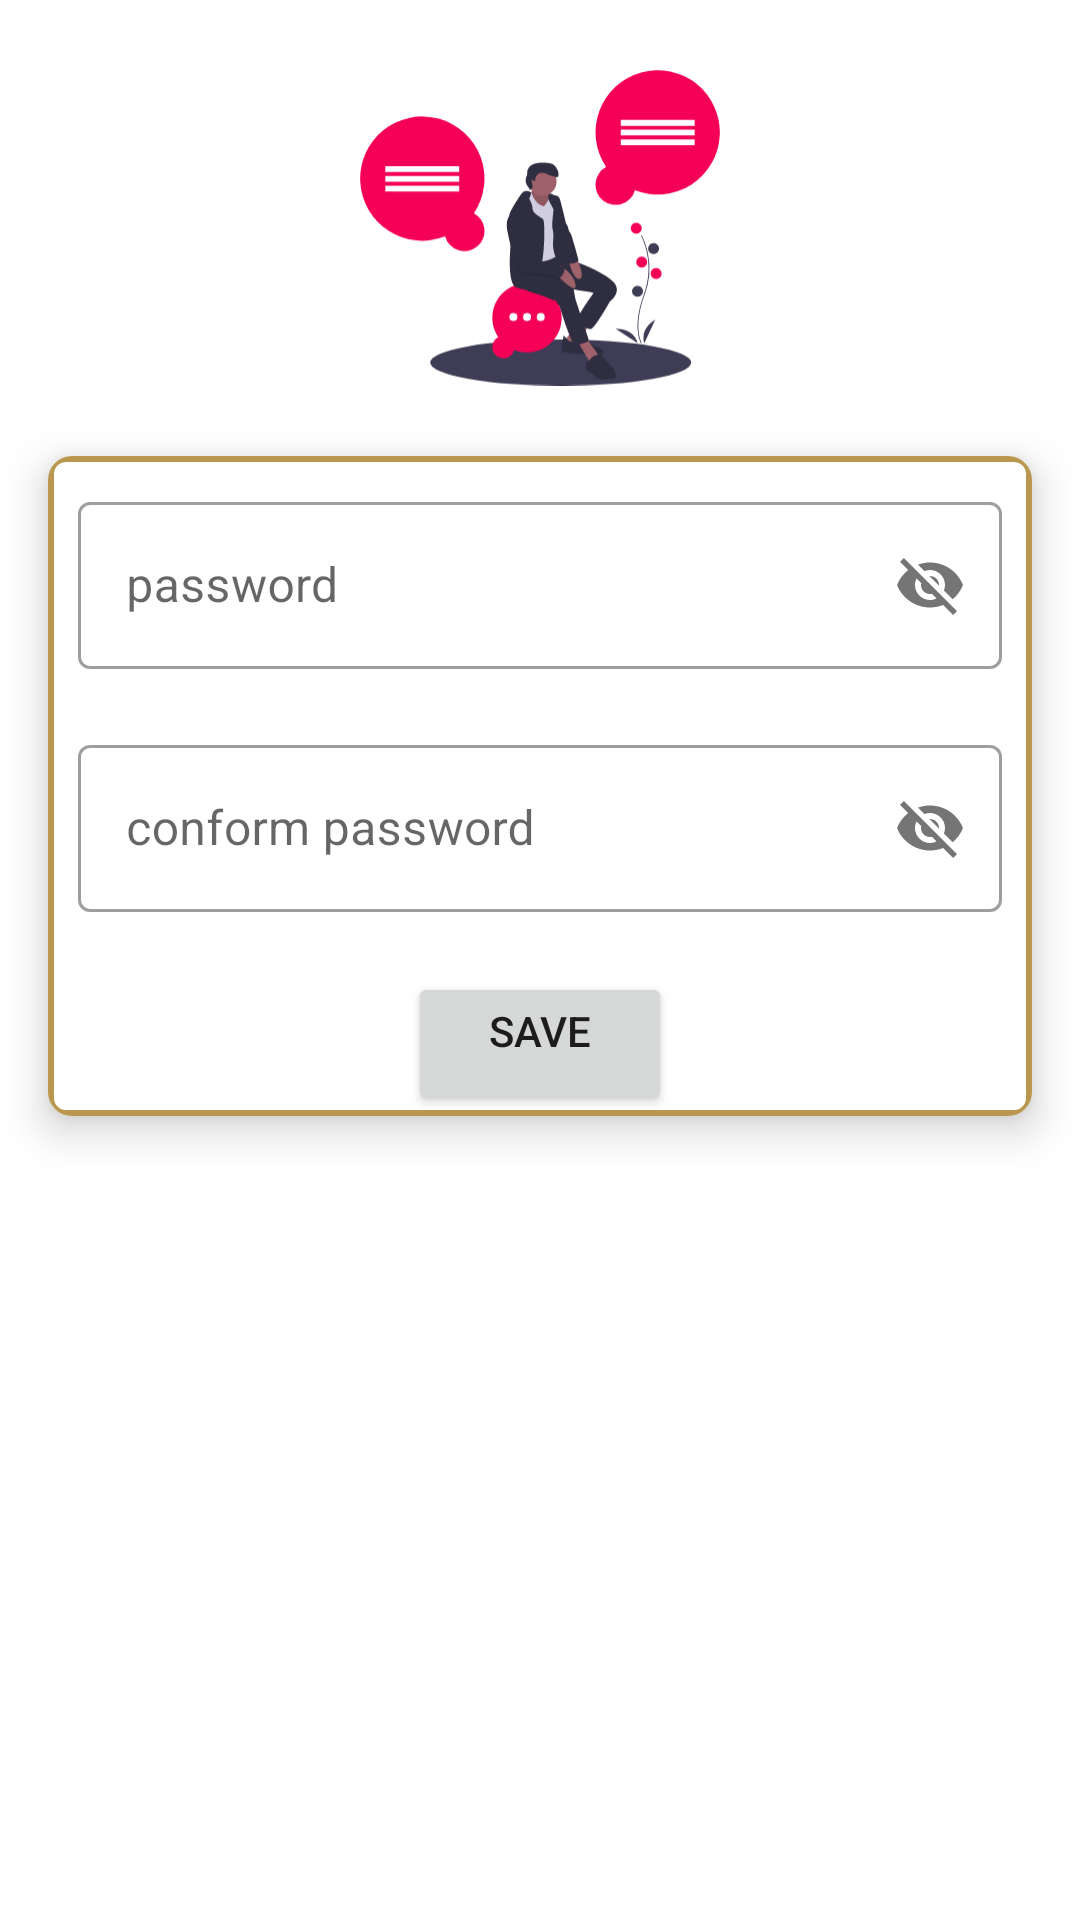

Icons on this 1080w x 1920h Android screen, each with the point to tap as [x,y]:
undrawprofile: [540,228]
